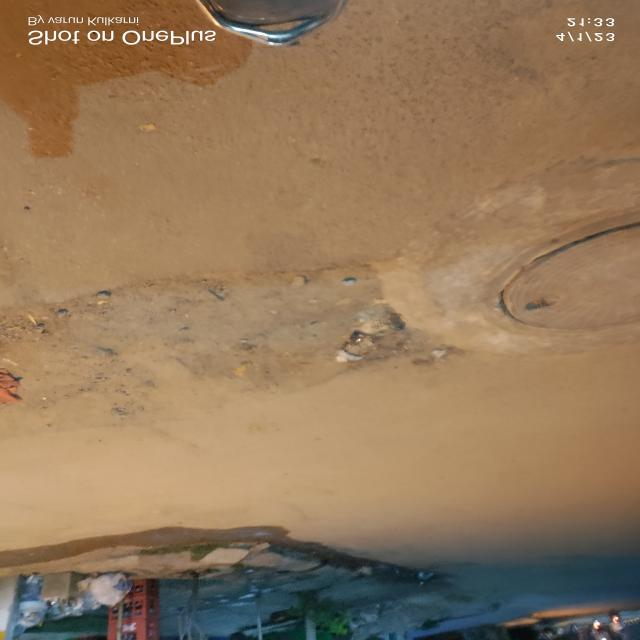manhole: (461, 152, 640, 374)
potholes: (6, 257, 418, 409)
